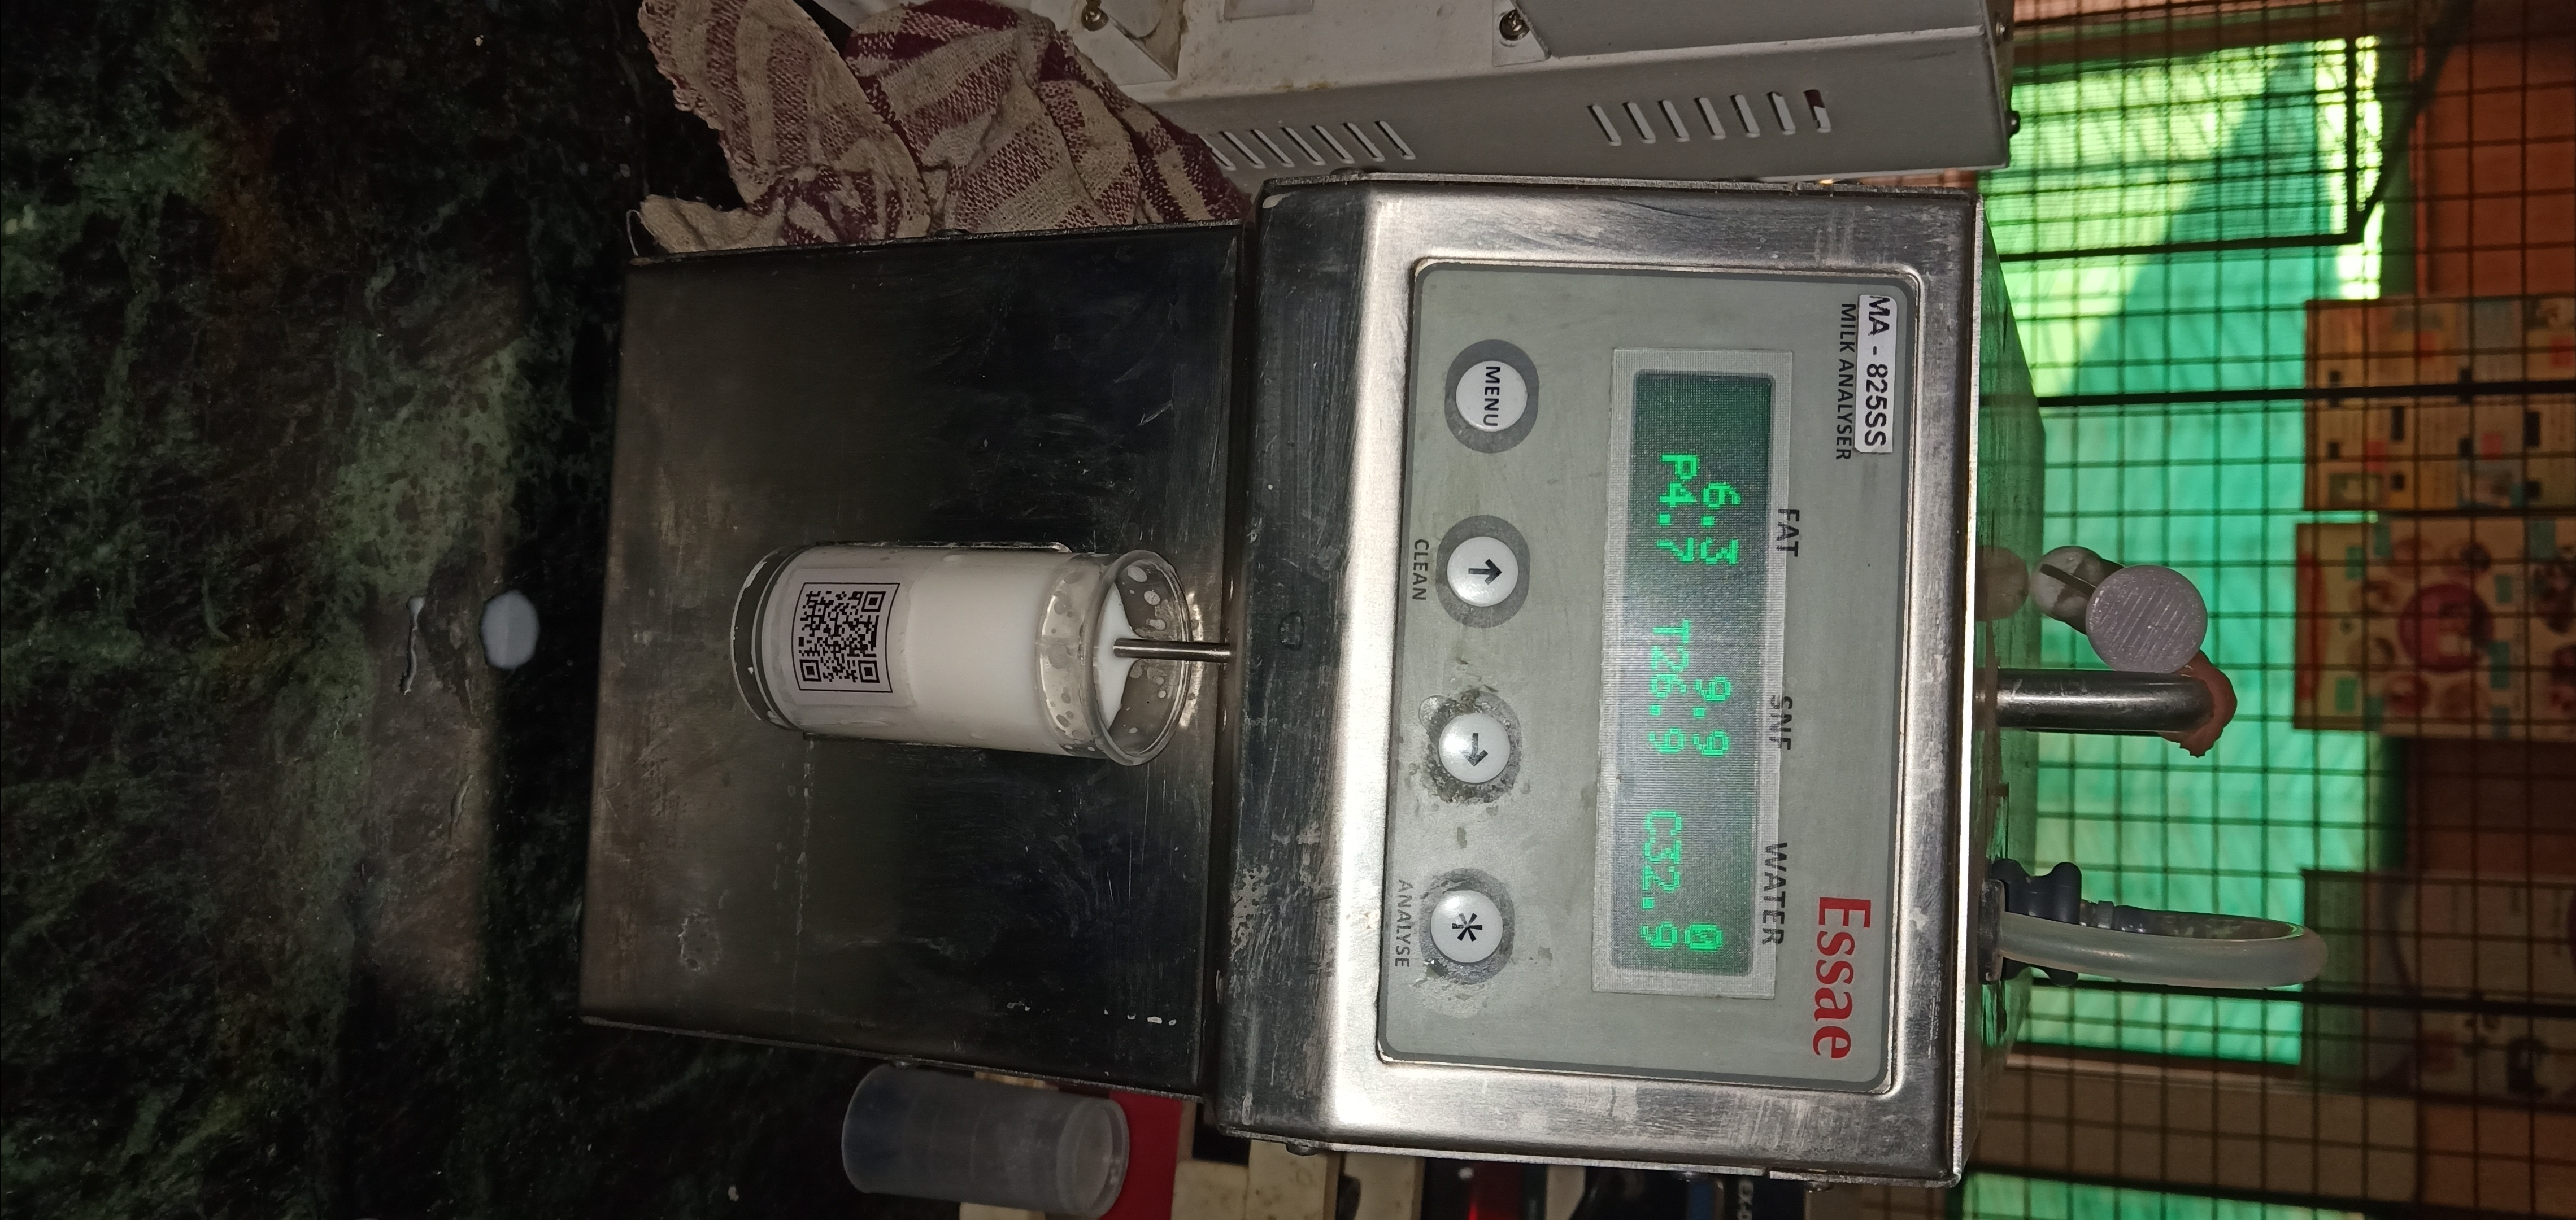lcd: (1610, 348, 1810, 1008)
qr: (784, 580, 908, 704)
